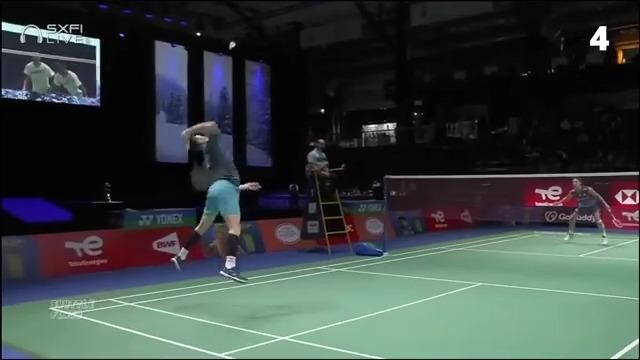Shuttlecock: (225, 40, 237, 52)
